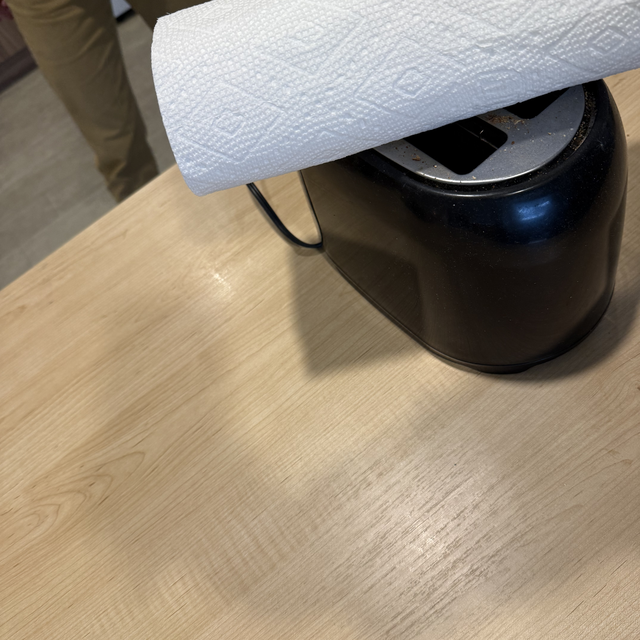Paper Towel: (147, 22, 640, 200)
Toaster: (287, 82, 628, 365)
